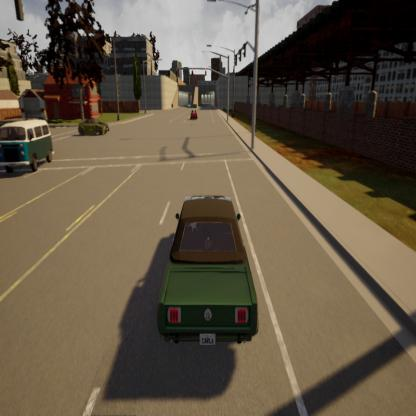Cars: (159, 195, 258, 346), (0, 121, 53, 171), (78, 119, 110, 135), (190, 108, 198, 121)
